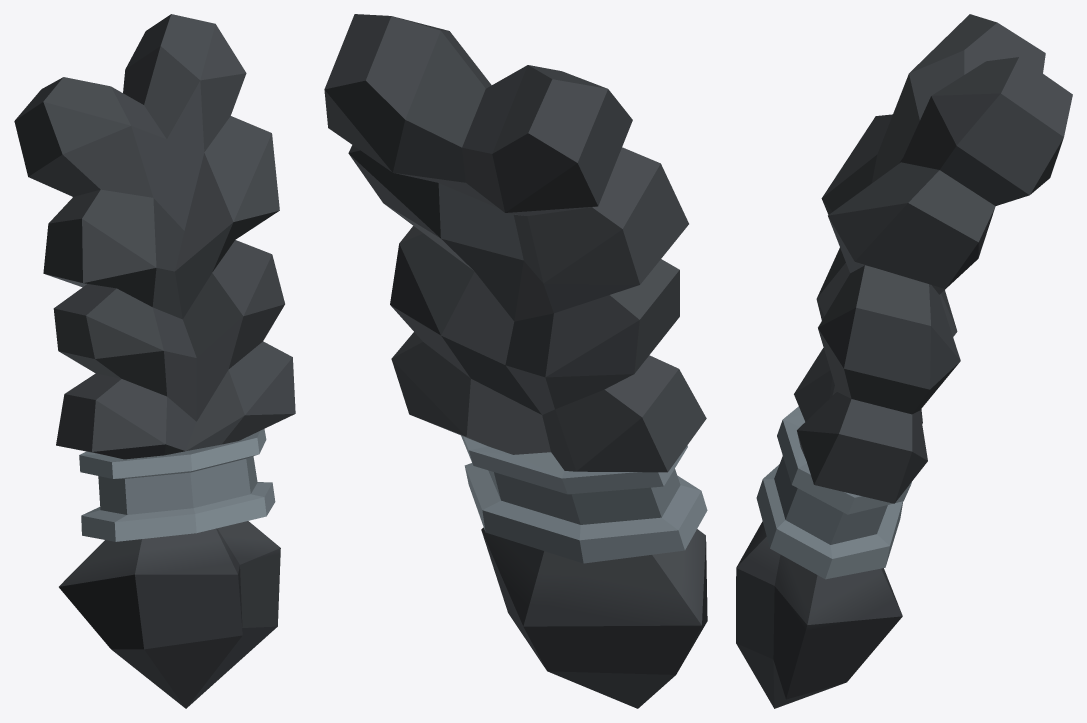
File: SM_Chr_Attach_Beard_Attach_01.fbx
The picture shows the model from 3 angles, left to right: view 1: azimuth 30°, elevation 25°; view 2: azimuth 150°, elevation 25°; view 3: azimuth 270°, elevation 25°; orthographic projection. The views are drawn at different scales.
Parts seen in each view (by area): view 1: SM_Chr_Attach_Beard_Attach_01; view 2: SM_Chr_Attach_Beard_Attach_01; view 3: SM_Chr_Attach_Beard_Attach_01.
Part boxes in pixels (x1,y1,x2,y2): SM_Chr_Attach_Beard_Attach_01: (14, 14, 295, 708); SM_Chr_Attach_Beard_Attach_01: (324, 14, 707, 708); SM_Chr_Attach_Beard_Attach_01: (736, 14, 1072, 708).
Size of the model in its own units: 11.62 by 28.63 by 12.43.
